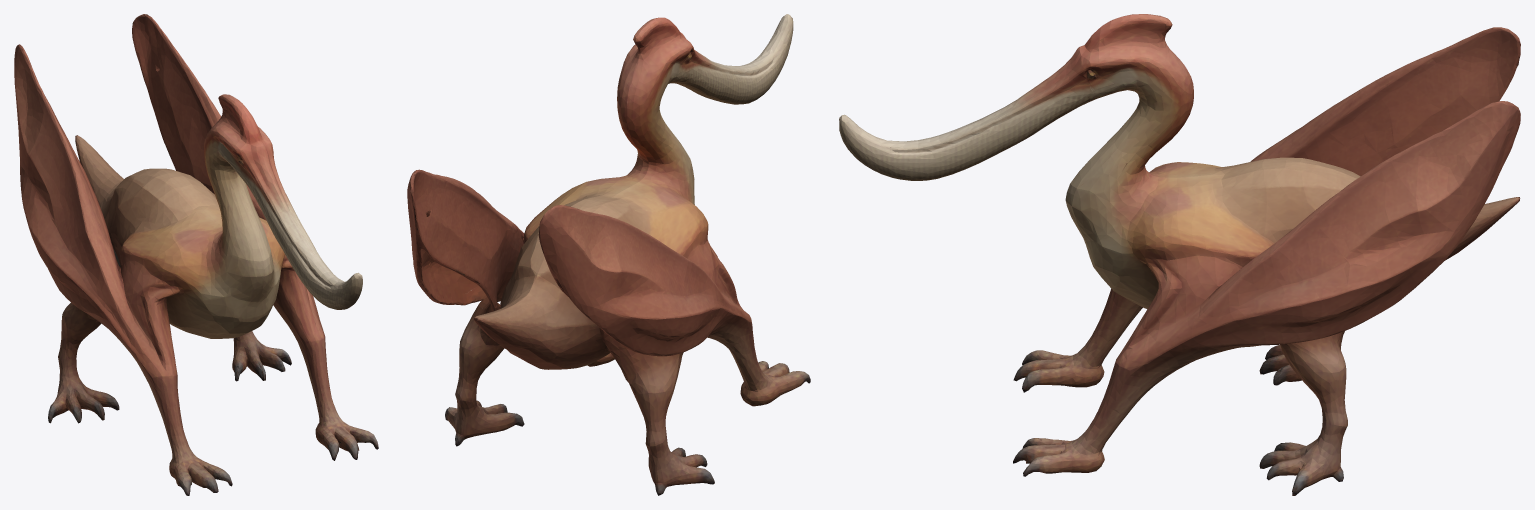
The picture shows the model from 3 angles, left to right: view 1: azimuth 30°, elevation 25°; view 2: azimuth 150°, elevation 25°; view 3: azimuth 270°, elevation 25°; orthographic projection. The views are drawn at different scales.
Visible parts, largest first — view 1: world; view 2: world; view 3: world.
Boxes of the visible parts, bbox=[...] form: world: bbox=[14, 14, 378, 495]; world: bbox=[407, 14, 810, 495]; world: bbox=[839, 14, 1520, 495].
Size of the model in its own units: 0.692 by 0.9391 by 1.4.
Materials: 1 (1 with a texture image).
